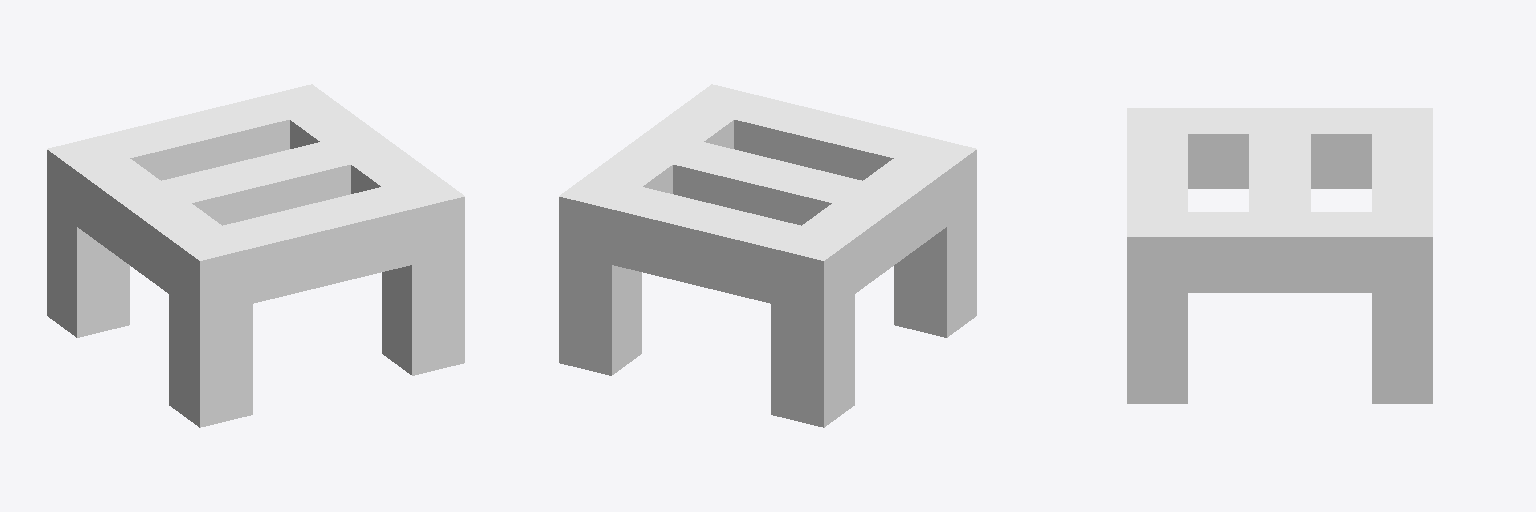
File: Kitchen_cabinets-5.obj
The picture shows the model from 3 angles: view 1: azimuth 30°, elevation 25°; view 2: azimuth 150°, elevation 25°; view 3: azimuth 270°, elevation 25°; orthographic projection.
Visible parts, largest first — view 1: object 1; view 2: object 1; view 3: object 1.
Part boxes in pixels (bbox=[...]): object 1: bbox=[47, 84, 464, 427]; object 1: bbox=[559, 84, 976, 427]; object 1: bbox=[1127, 108, 1432, 403].
Bounding box in the file's own units: 0.5 × 0.3 × 0.5.